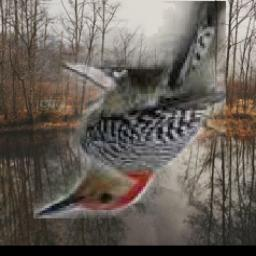Woodpecker: (34, 1, 227, 218)
